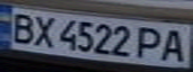2: (112, 21, 136, 59), (90, 20, 115, 56)
4: (54, 17, 78, 52)
5: (75, 19, 96, 54)
A: (157, 26, 190, 63)
B: (3, 10, 39, 45)
P: (133, 25, 166, 61)
X: (27, 14, 60, 48)
